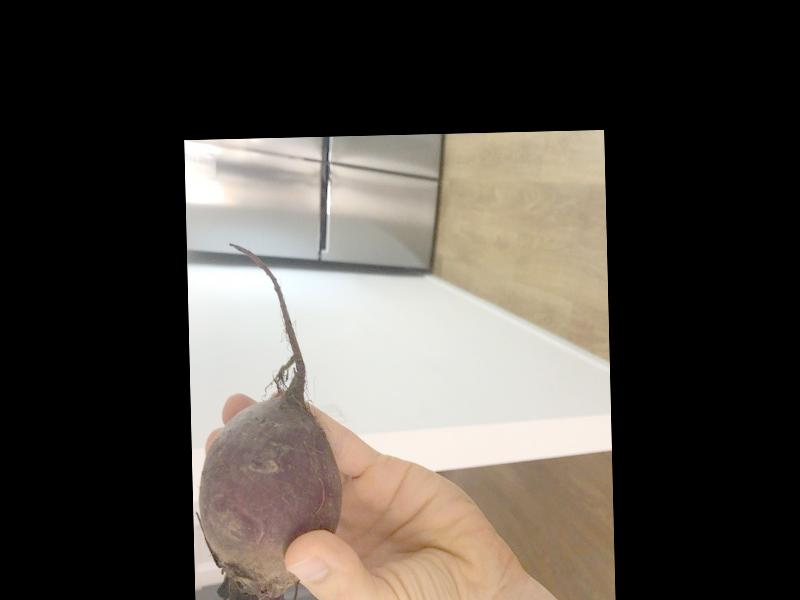Beet: (189, 242, 342, 600)
